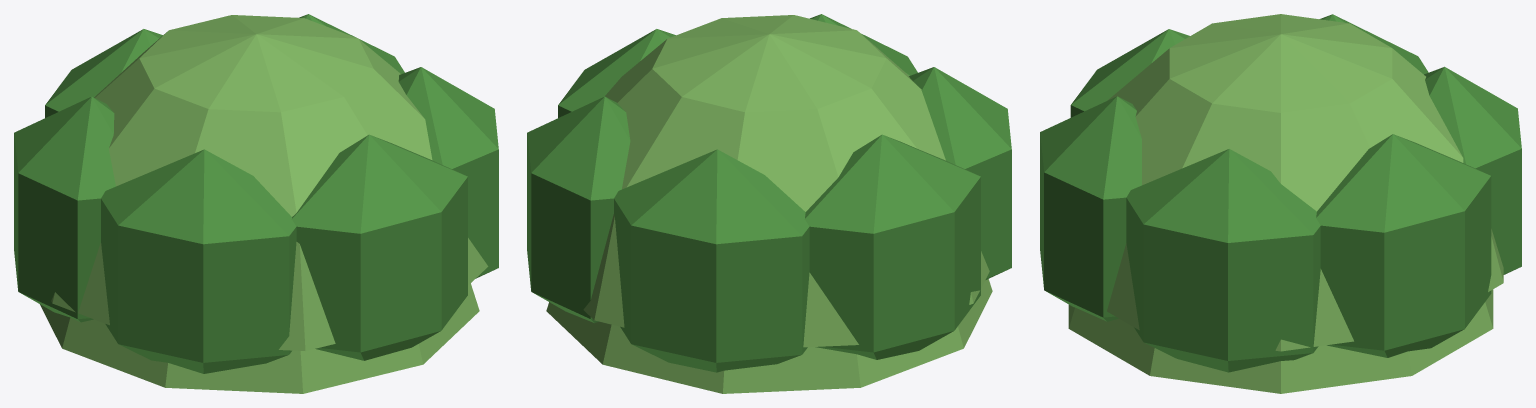
The model's file is SM_LPI_Food_Lettuce_01.fbx.
3 views of the same model, side by side, from view 1: azimuth 30°, elevation 25°; view 2: azimuth 150°, elevation 25°; view 3: azimuth 270°, elevation 25° (orthographic).
Parts seen in each view (by area): view 1: SM_LPI_Food_Lettuce_01; view 2: SM_LPI_Food_Lettuce_01; view 3: SM_LPI_Food_Lettuce_01.
Boxes of the visible parts, x1,y1,x2,y2 form: SM_LPI_Food_Lettuce_01: (14, 14, 498, 393); SM_LPI_Food_Lettuce_01: (527, 14, 1011, 393); SM_LPI_Food_Lettuce_01: (1040, 14, 1521, 393).
Bounding box in the file's own units: 0.1254 × 0.0806 × 0.1244.
